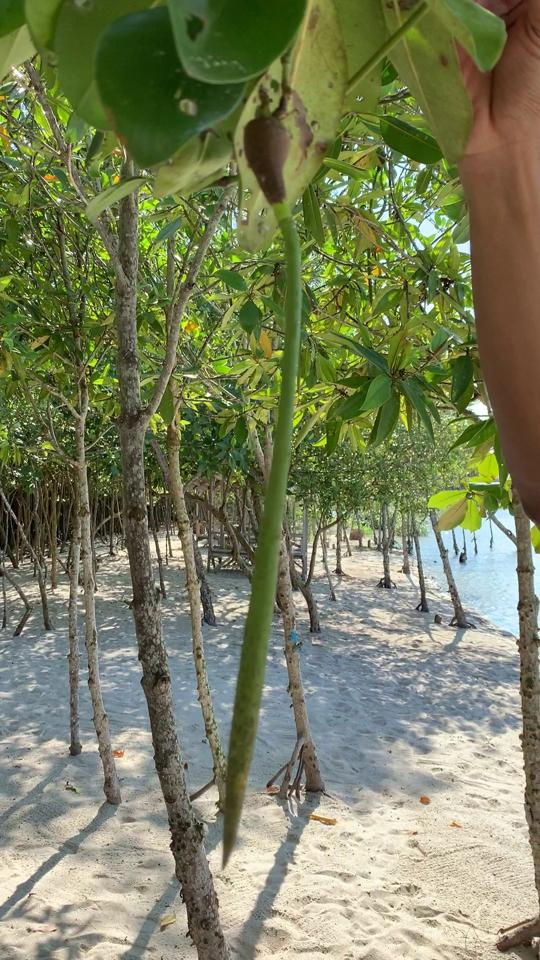setengah matang: (204, 89, 315, 882)
